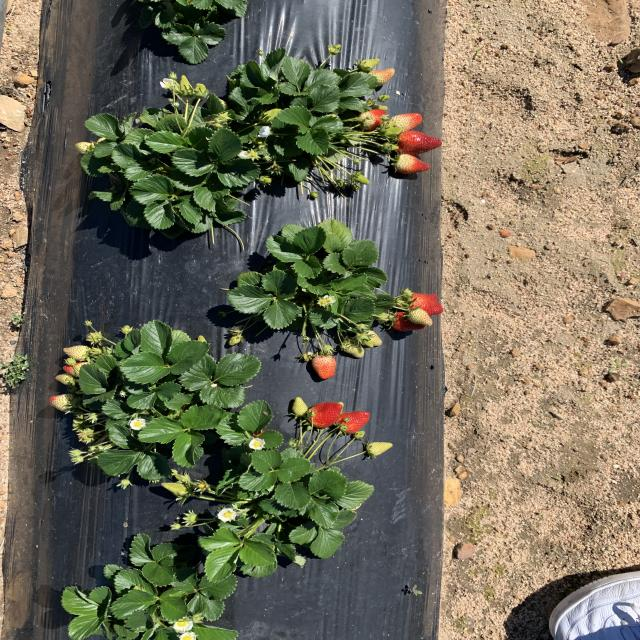unripe: (396, 131, 444, 155), (401, 292, 444, 316), (306, 402, 342, 429), (334, 410, 372, 434), (388, 312, 431, 333), (360, 110, 385, 130)
